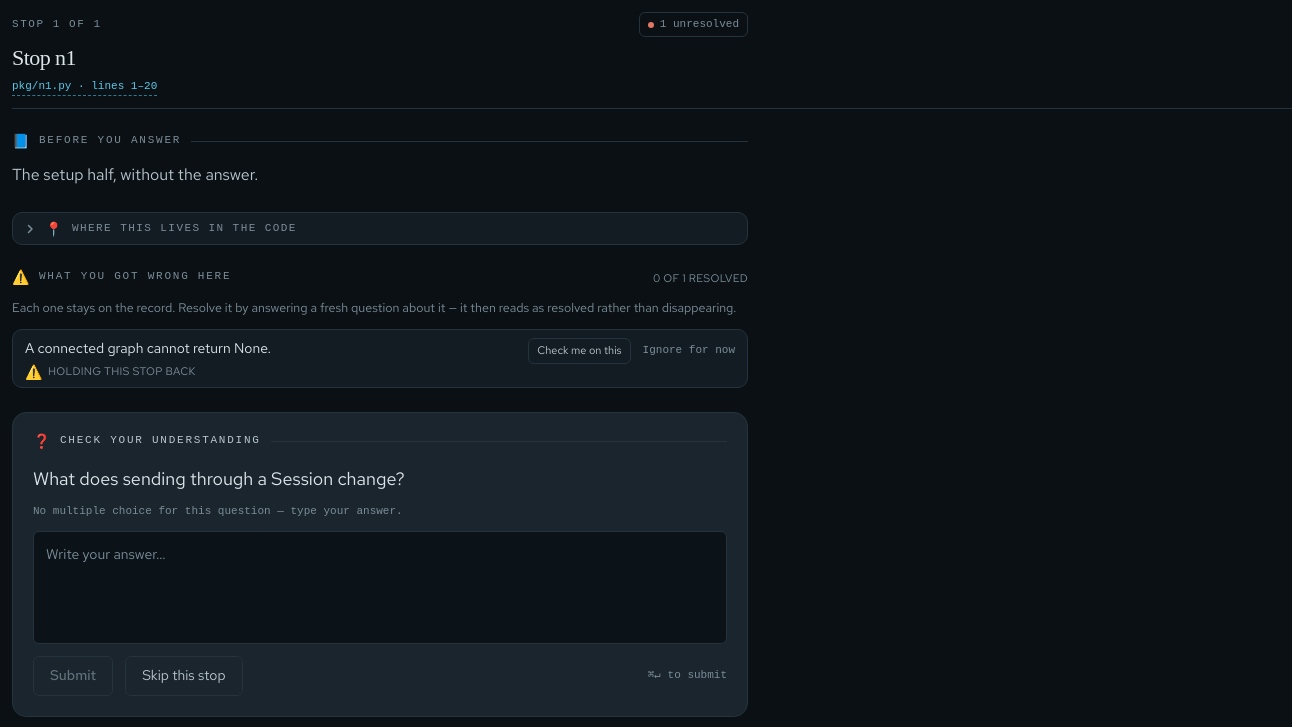
Test: requesting a verification › after answering a check › says it cleared, and names what closed
Check: the text "What does sending through a Session change?" is shown, box [33,467,405,490]
Type "A wrong answer." into the text box with placeholder "Write your answer…". click: point(380, 588)
box: [33,531,727,644]
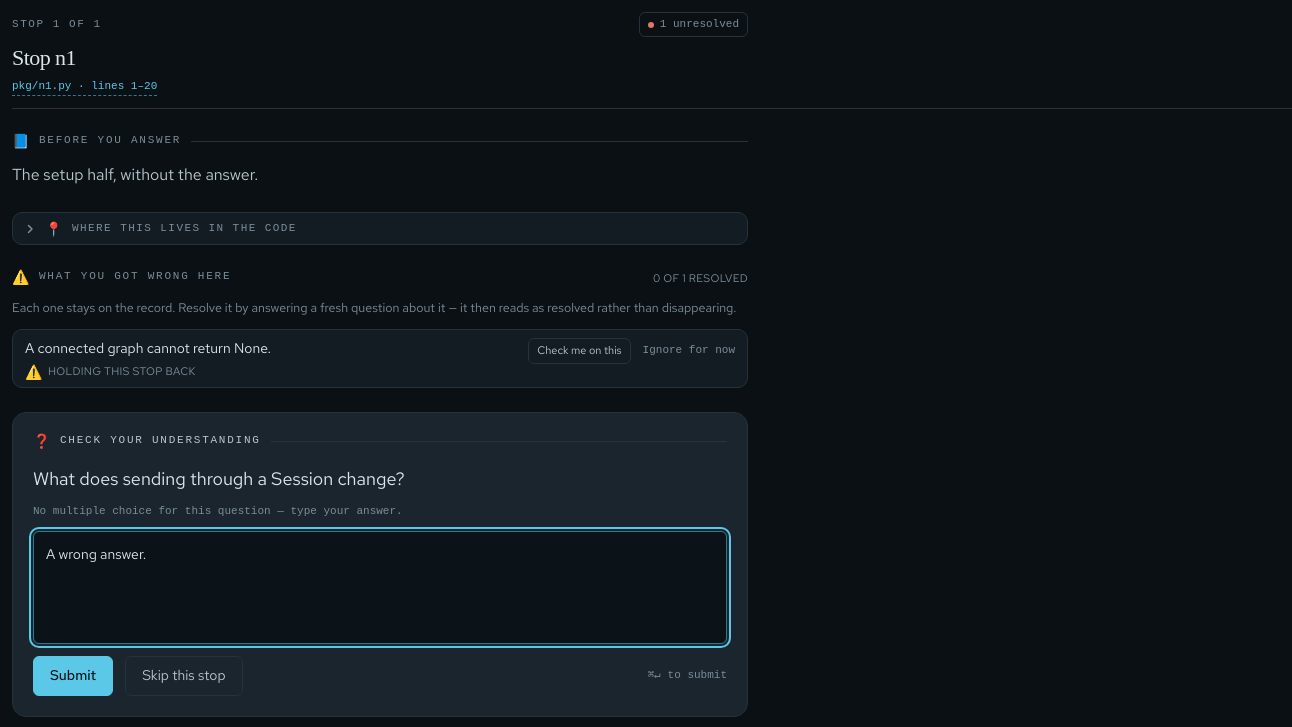
Click the button "Submit". click: point(73, 676)
box: [33,656,113,696]
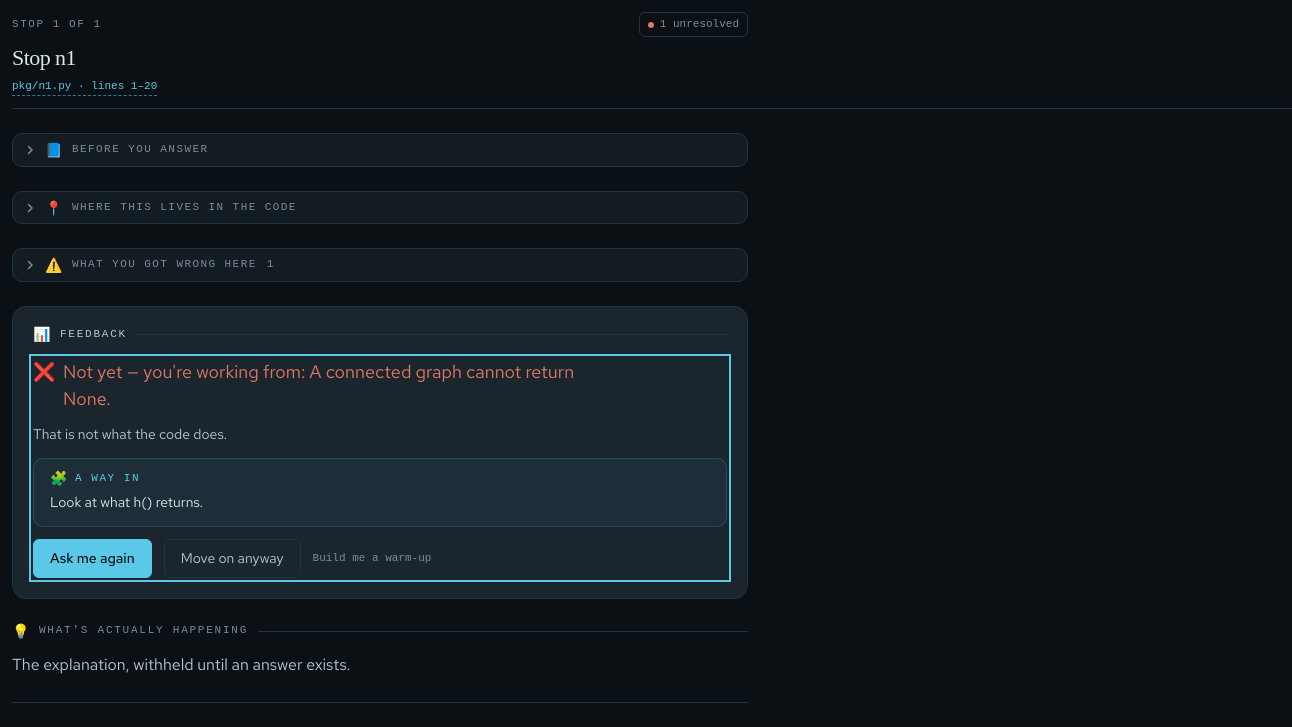
Check: the button "Ask me again" is shown
Click the button "Ask me again". click: point(92, 559)
box: [33,539,152,578]
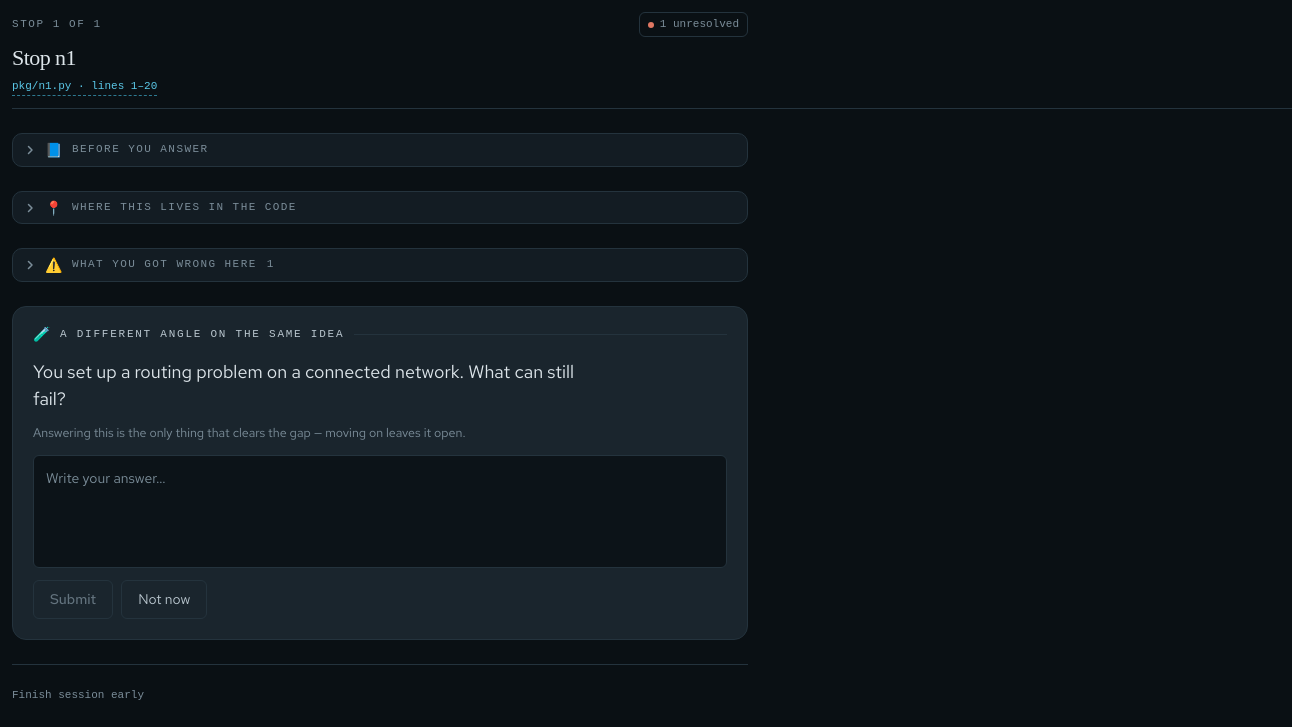
Check: the text "You set up a routing problem on a connected network. What can still fail?" is shown, box [33,358,580,412]
Type "My careful answer about np.inf." into the text box with placeholder "Write your answer…". click: point(380, 511)
box: [33,455,727,568]
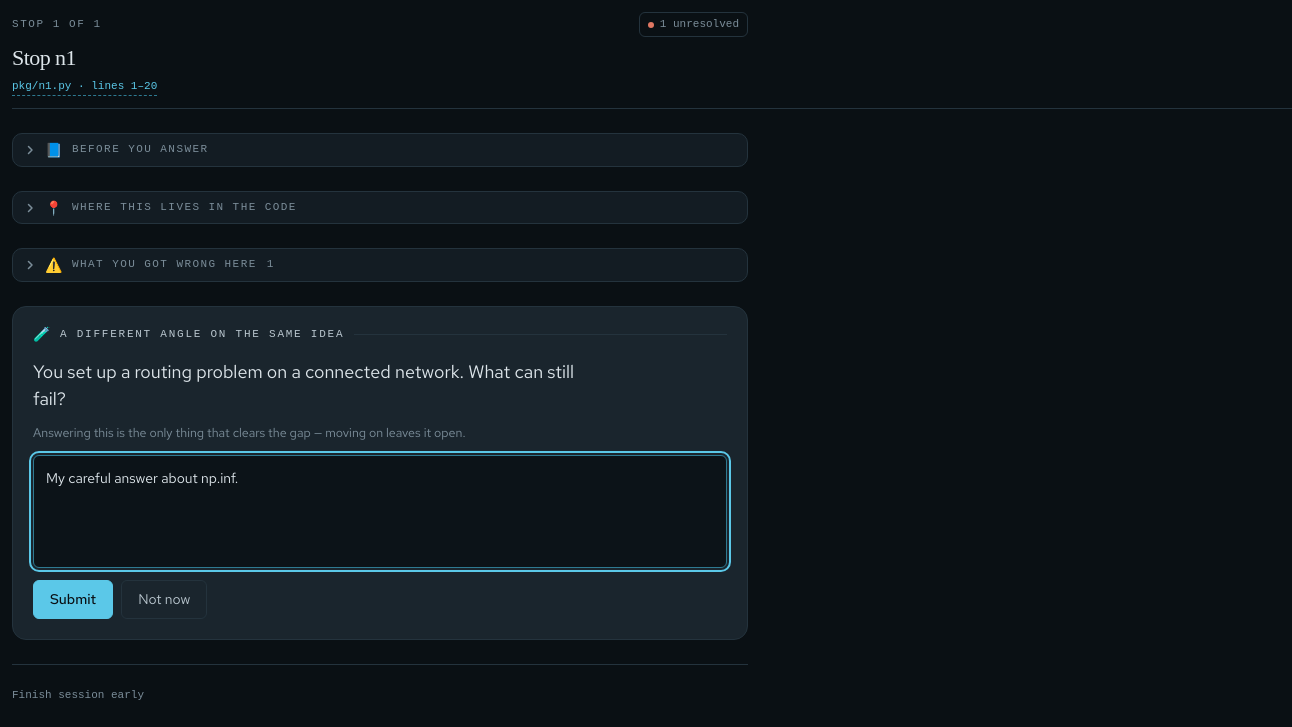
Click the button "Submit". click: point(73, 599)
box: [33,580,113,619]
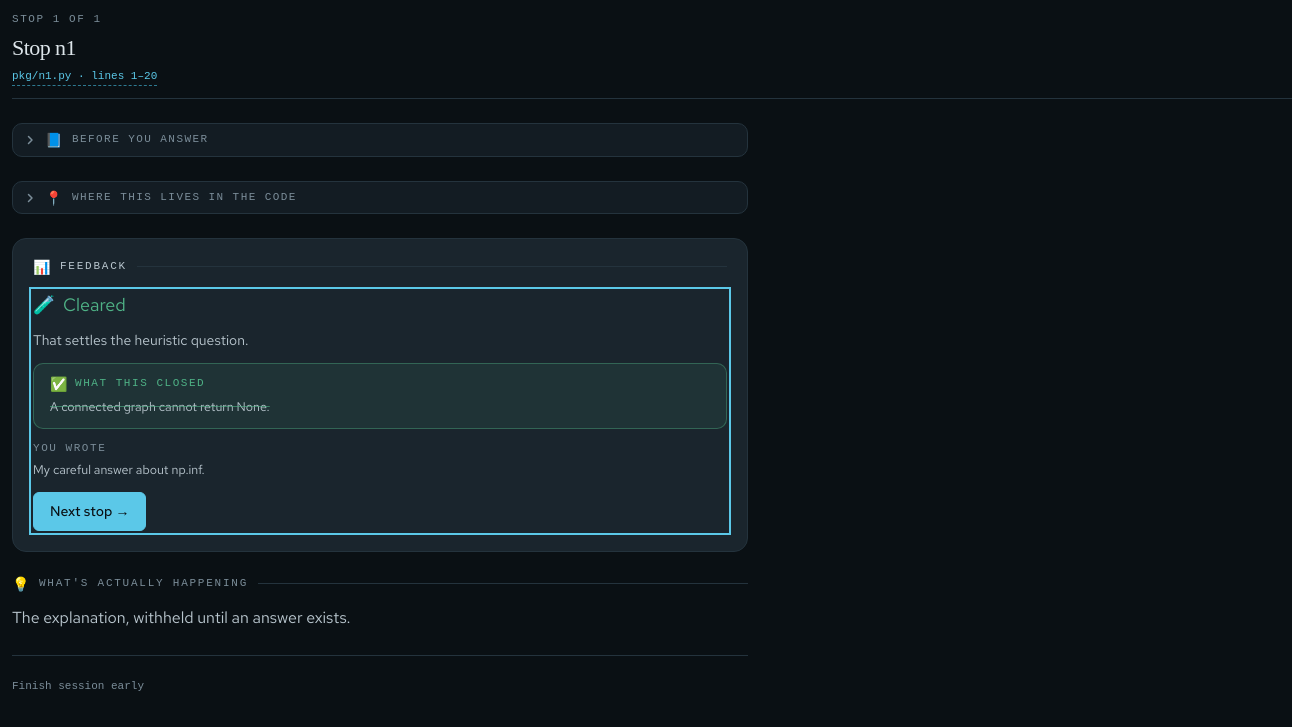
Check: the text "That settles the heuristic question." is shown, box [33,331,248,349]
Check: the text "Cleared" is shown, box [63,291,126,318]
Check: the list item "A connected graph cannot return None." is shown, box [50,398,270,415]
